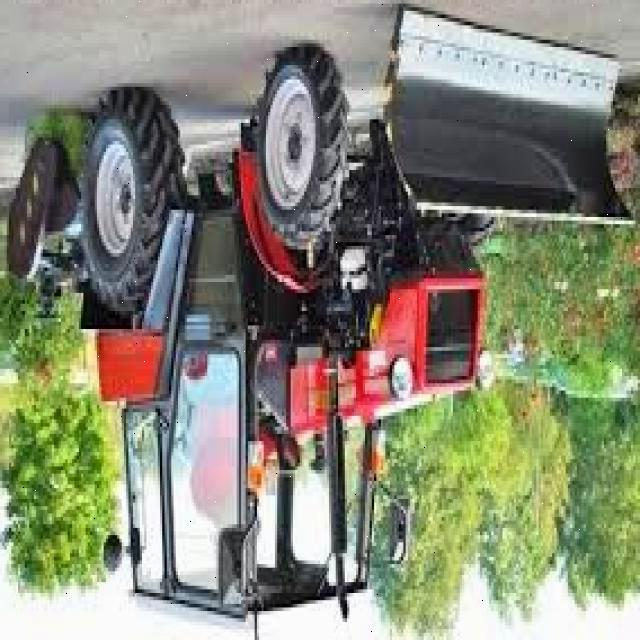Tratores - v5 YOLO V8L 2024-11-13: (82, 49, 496, 624)
